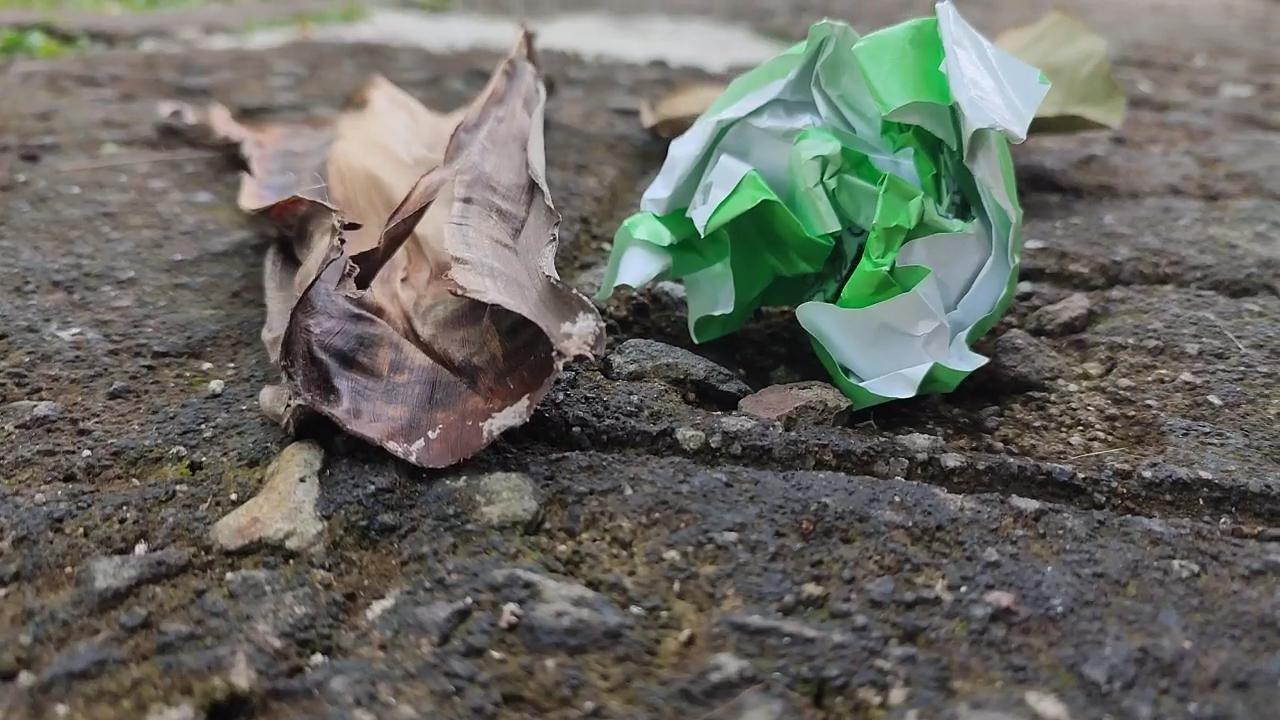Paper: (581, 0, 1039, 429)
